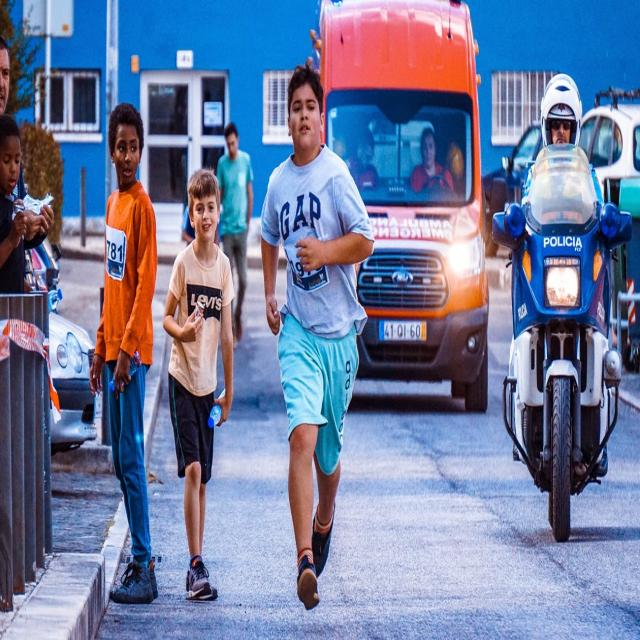running: (260, 61, 376, 610)
standing: (88, 102, 161, 605), (162, 167, 237, 606)
